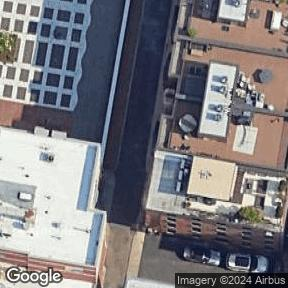vegetation: (241, 207, 264, 223)
